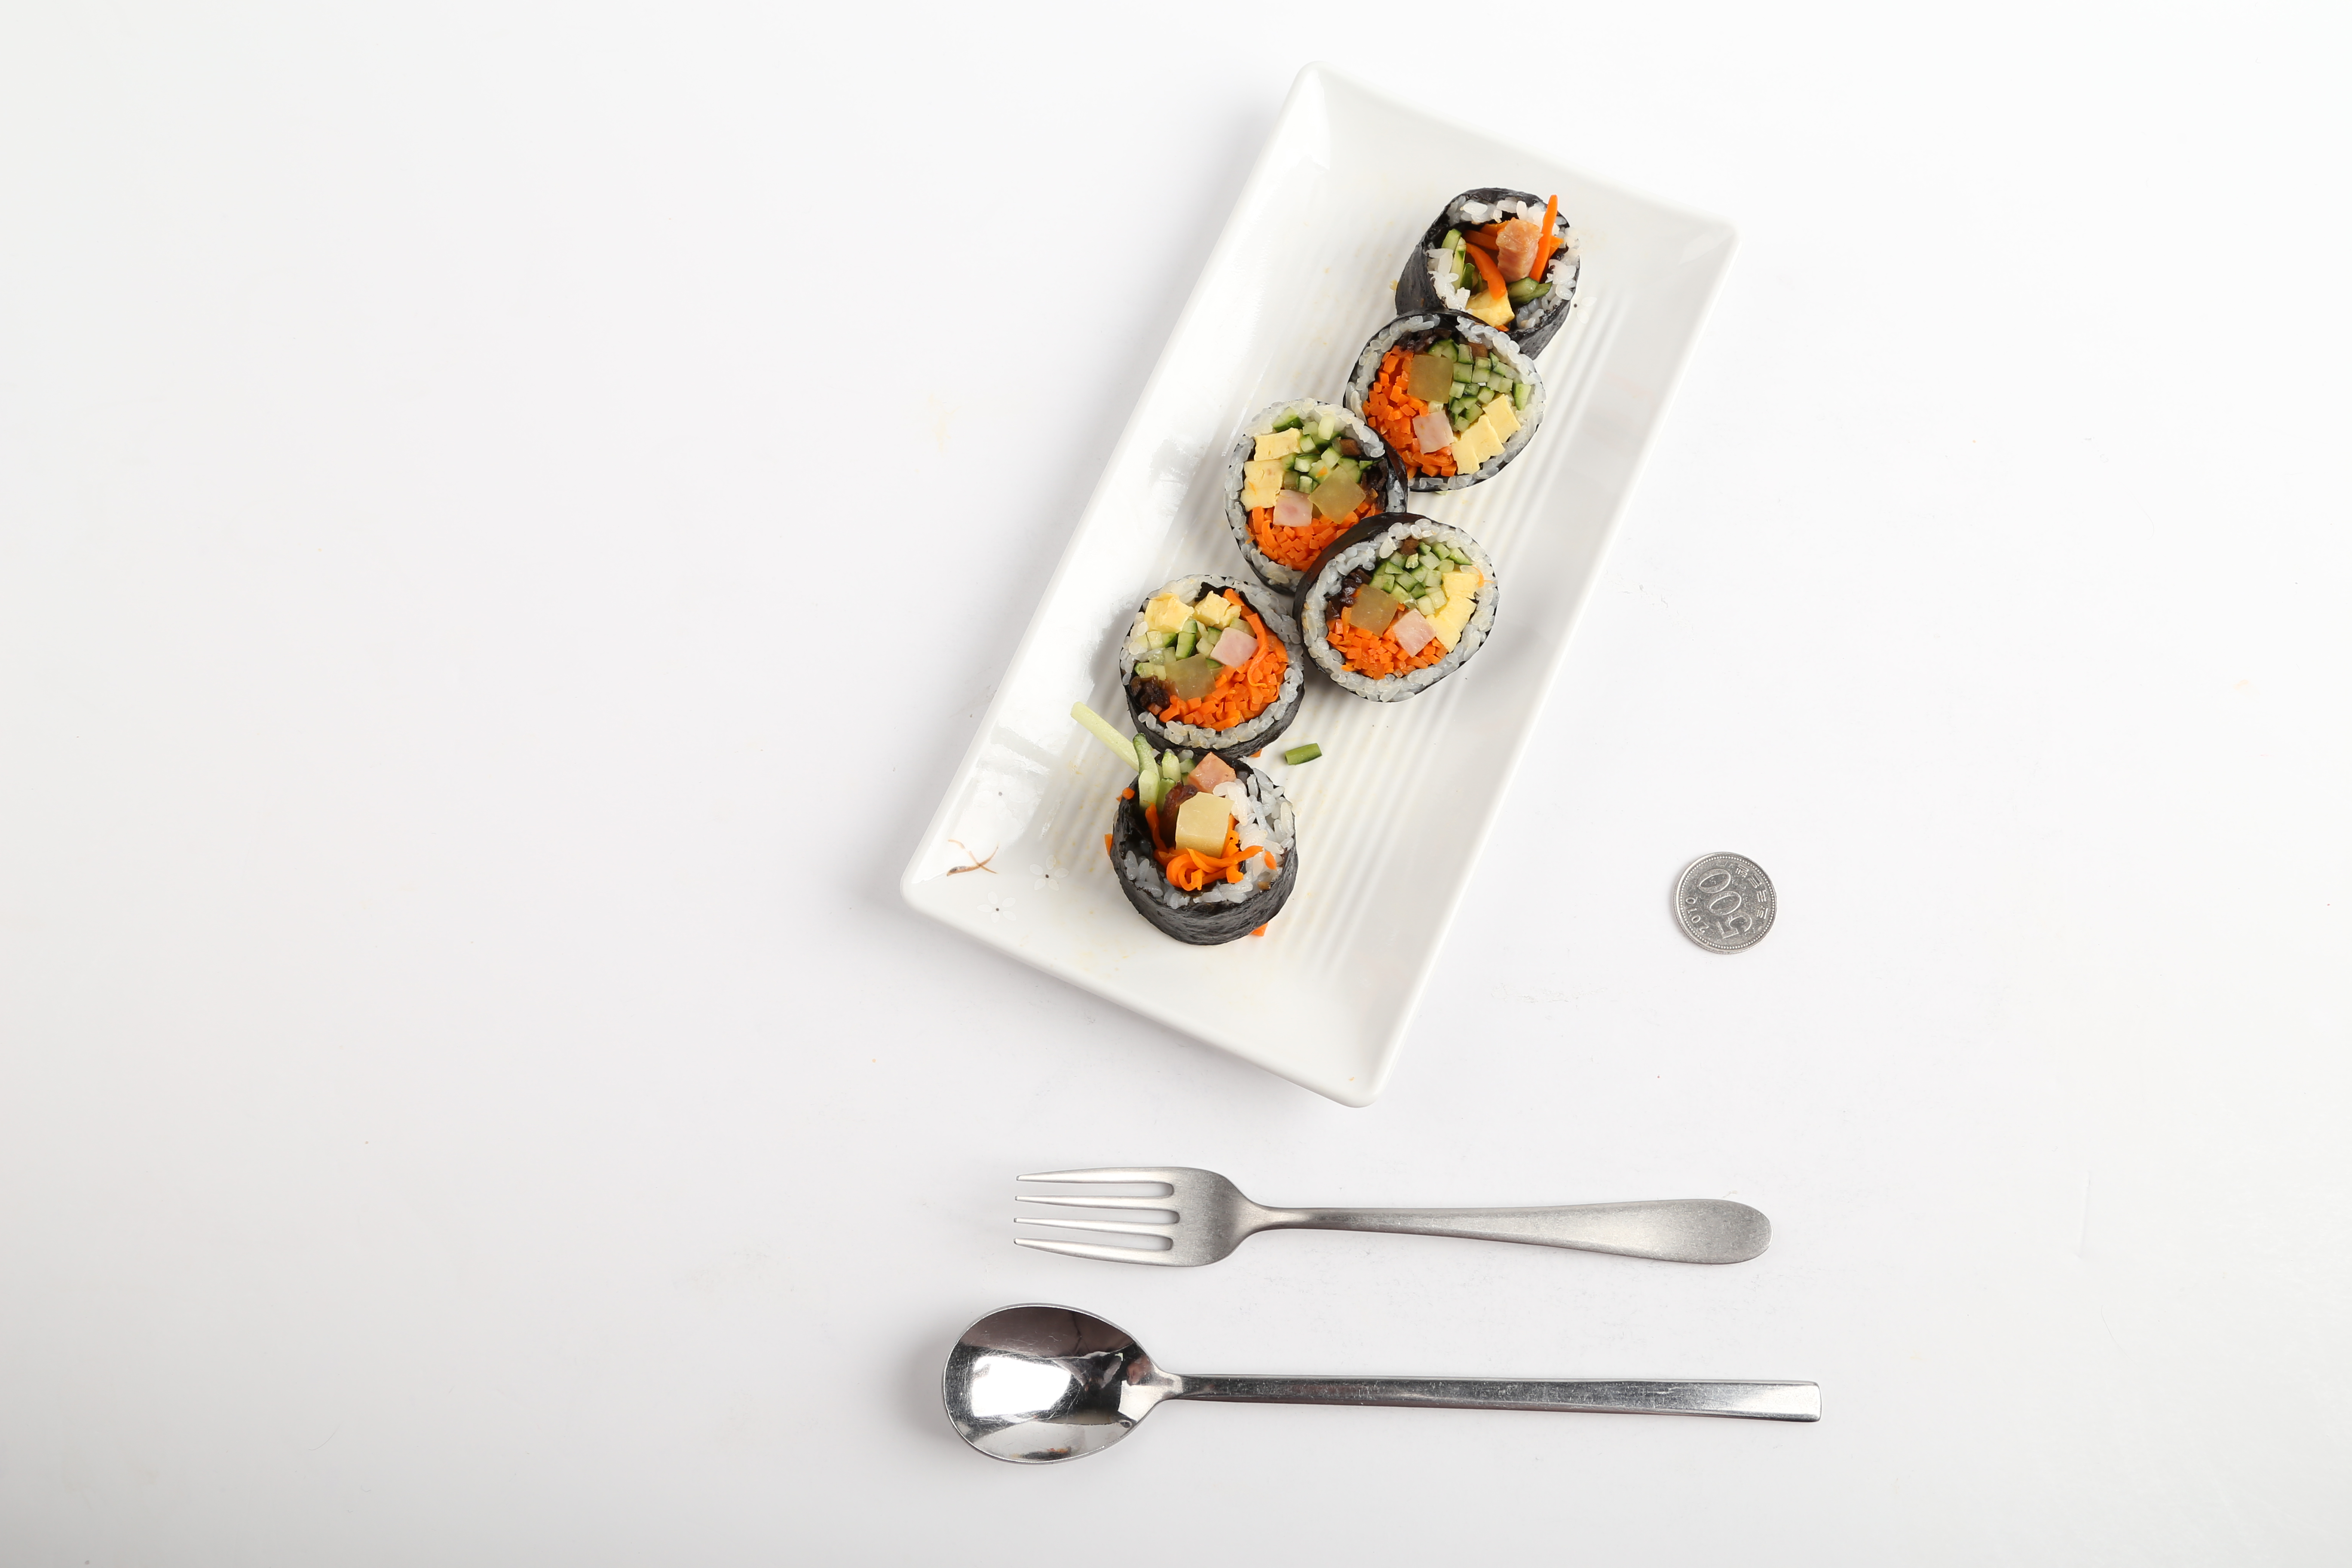dish: (905, 52, 1736, 1115)
ref_coin: (1662, 845, 1781, 961)
ref_fork: (1006, 1157, 1297, 1270)
ref_spoon: (934, 1298, 1232, 1473)
김밥: (1109, 185, 1578, 947)
